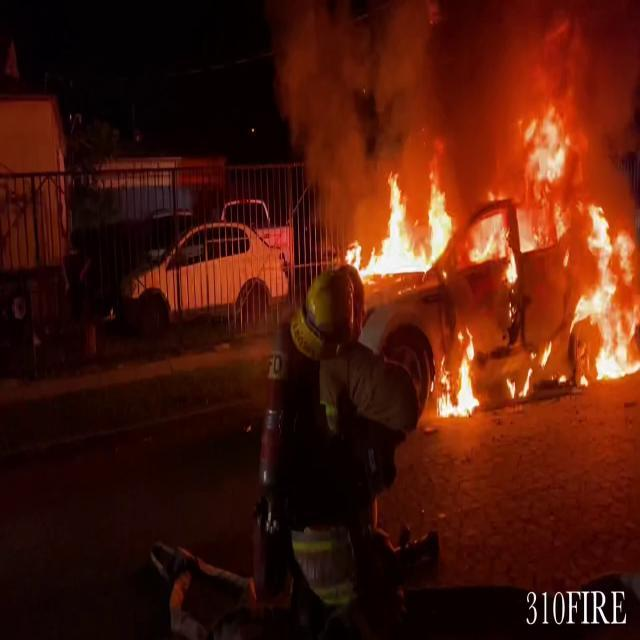Fire: (351, 96, 640, 401), (436, 330, 484, 422)
Smoke: (260, 1, 522, 196)
